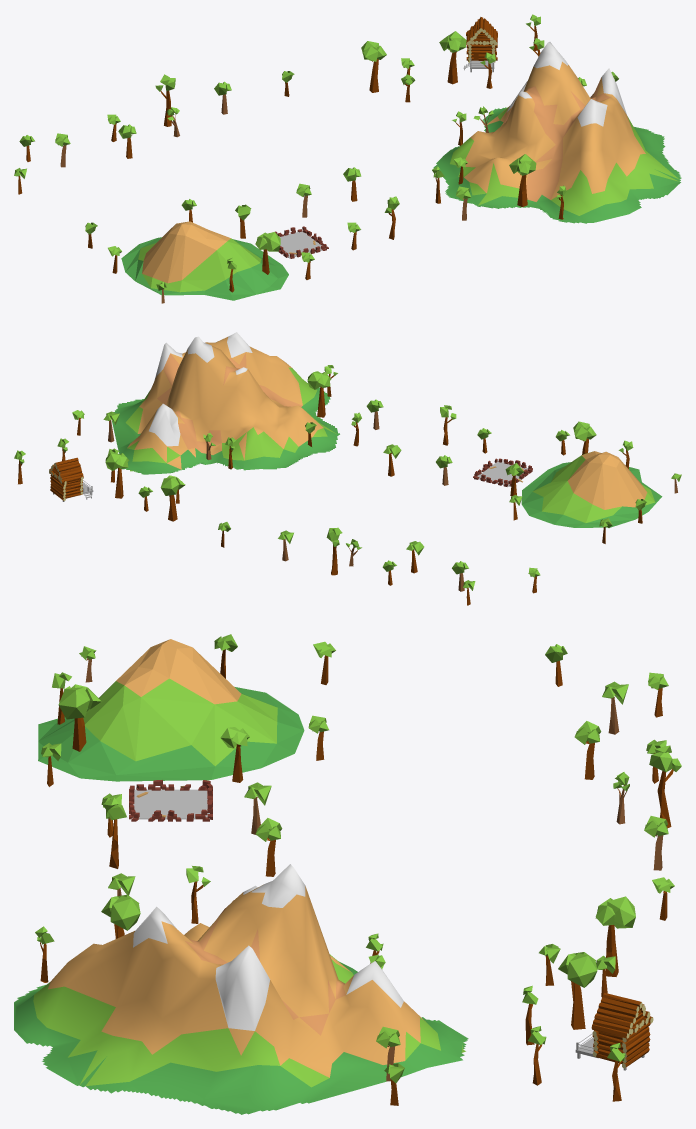
Rendered from gori_dereviya_dekor.glb.
3 renders of one model, top to bottom at view 1: azimuth 30°, elevation 25°; view 2: azimuth 150°, elevation 25°; view 3: azimuth 270°, elevation 25°, orthographic. The views are drawn at different scales.
Visible parts, largest first — view 1: Заброшка; view 2: Заброшка; view 3: Заброшка.
Part boxes in pixels (x1,y1,x2,y2): Заброшка: [14, 14, 681, 303]; Заброшка: [14, 332, 681, 605]; Заброшка: [14, 634, 681, 1114].
Bounding box in the file's own units: 269 × 50.36 × 174.
